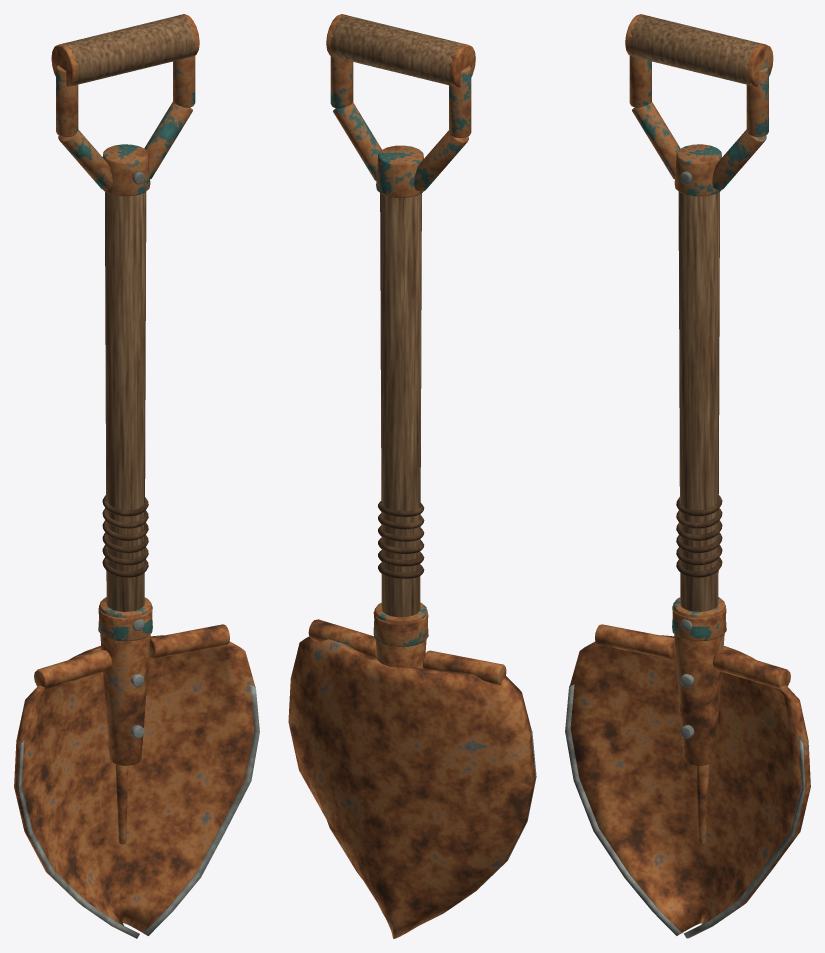
File: RustyShovel_Oxide07.glb
The picture shows the model from 3 angles, left to right: view 1: azimuth 30°, elevation 25°; view 2: azimuth 150°, elevation 25°; view 3: azimuth 330°, elevation 25°; orthographic projection.
Visible parts, largest first — view 1: RustyShovel_Oxide07; view 2: RustyShovel_Oxide07; view 3: RustyShovel_Oxide07.
Part boxes in pixels (x1,y1,x2,y2): RustyShovel_Oxide07: [14, 14, 259, 938]; RustyShovel_Oxide07: [288, 14, 536, 938]; RustyShovel_Oxide07: [565, 14, 810, 938].
Bounding box in the file's own units: 1.52 × 5.4 × 0.3485.
Materials: 1 (1 with a texture image).
